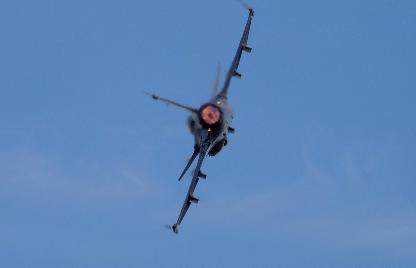JAS39: (142, 5, 254, 233)
